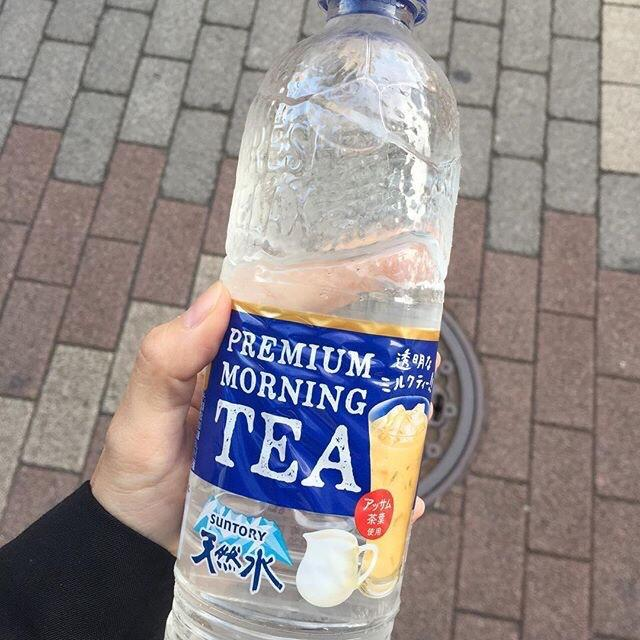bottle: (153, 0, 476, 640)
